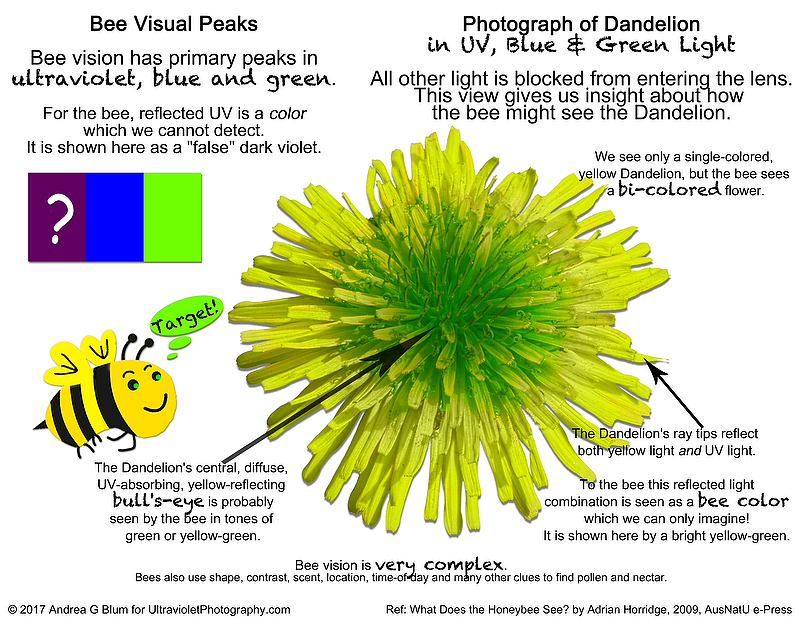dandelion: (255, 182, 648, 507)
